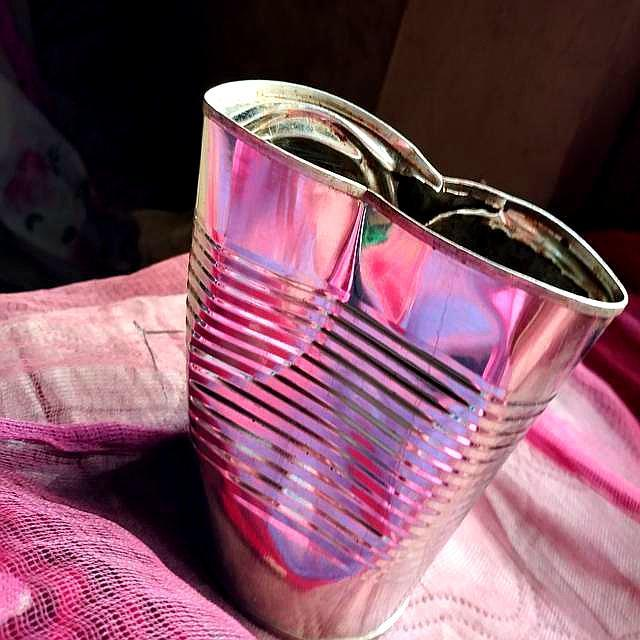Non-biodegradable: (181, 77, 629, 638)
